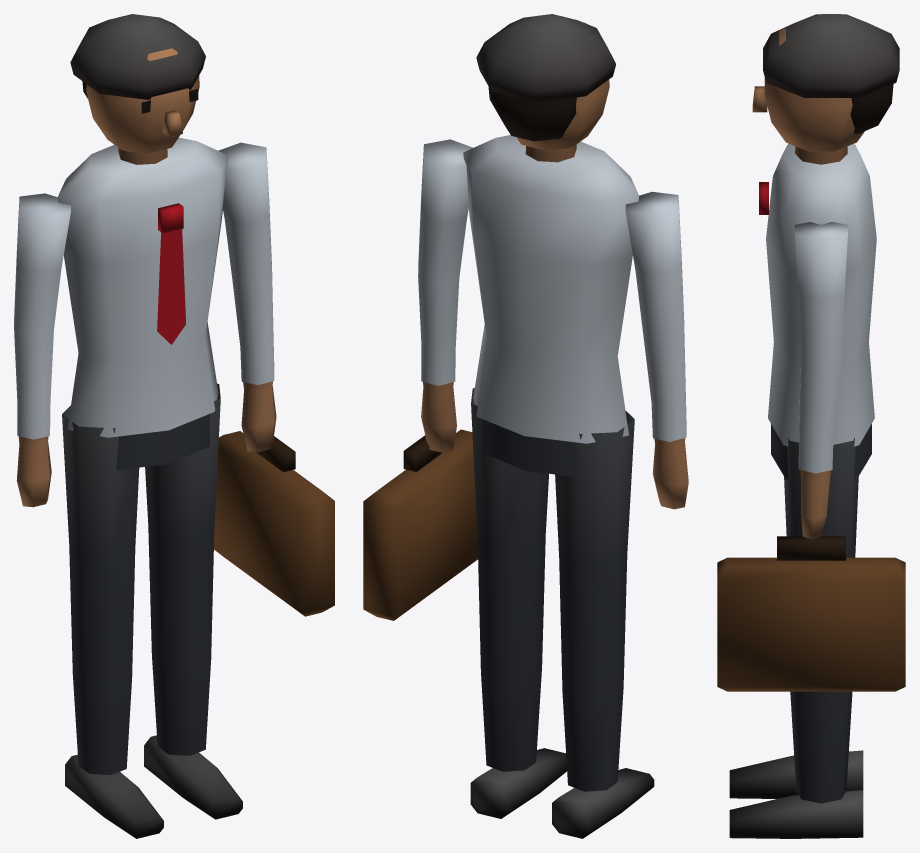
File: peaton_hombre_a.glb
The picture shows the model from 3 angles, left to right: view 1: azimuth 30°, elevation 25°; view 2: azimuth 150°, elevation 25°; view 3: azimuth 270°, elevation 25°; orthographic projection. The views are drawn at different scales.
Parts seen in each view (by area): view 1: peaton_hombre_a; view 2: peaton_hombre_a; view 3: peaton_hombre_a.
Boxes of the visible parts, x1,y1,x2,y2 form: peaton_hombre_a: (14, 14, 334, 838); peaton_hombre_a: (363, 14, 688, 838); peaton_hombre_a: (717, 14, 905, 838).
Size of the model in its own units: 0.652 by 1.77 by 0.38.
